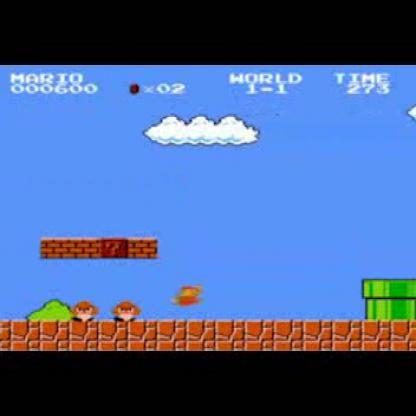Goomba: (111, 299, 146, 322), (72, 298, 100, 321)
